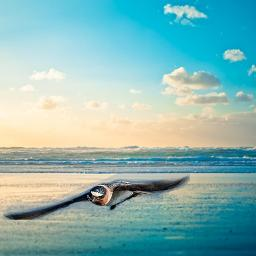Swallow: (3, 171, 190, 220)
